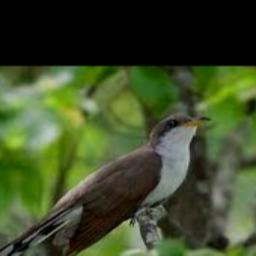Cuckoo: (0, 114, 211, 256)
